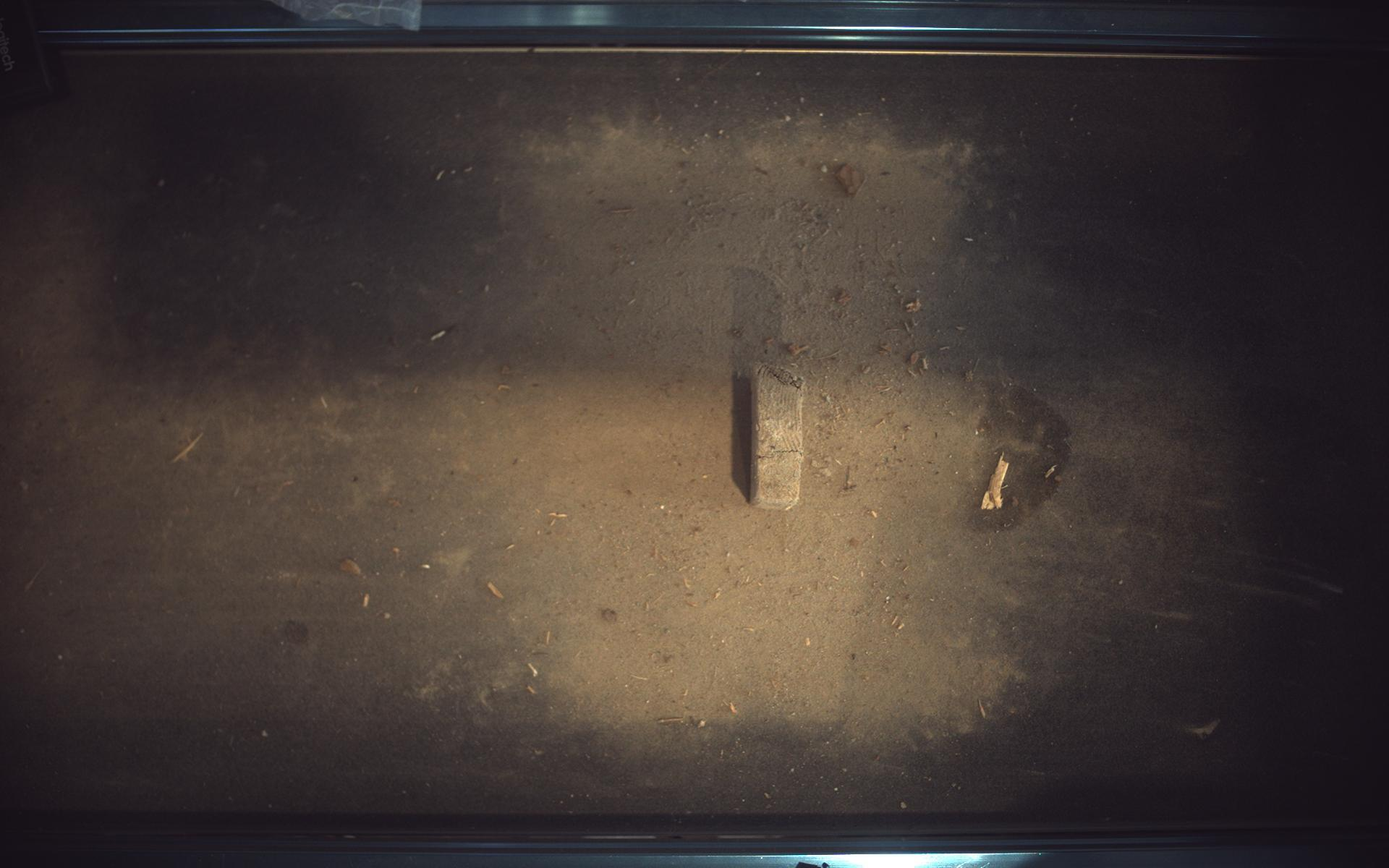wood: (751, 363, 807, 510)
